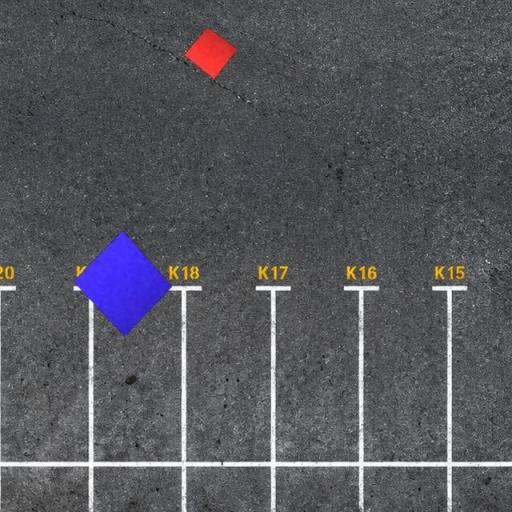BLUE_SQUARE: (73, 230, 173, 336)
RED_SQUARE: (184, 26, 238, 81)
